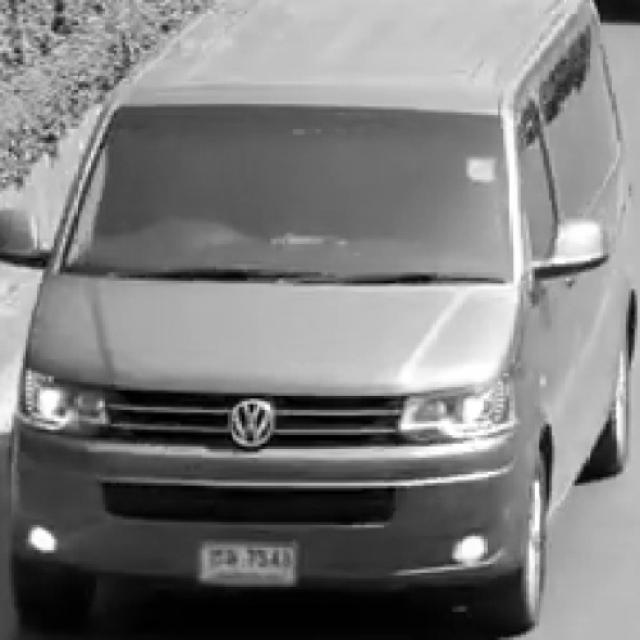plate: (199, 539, 299, 584)
